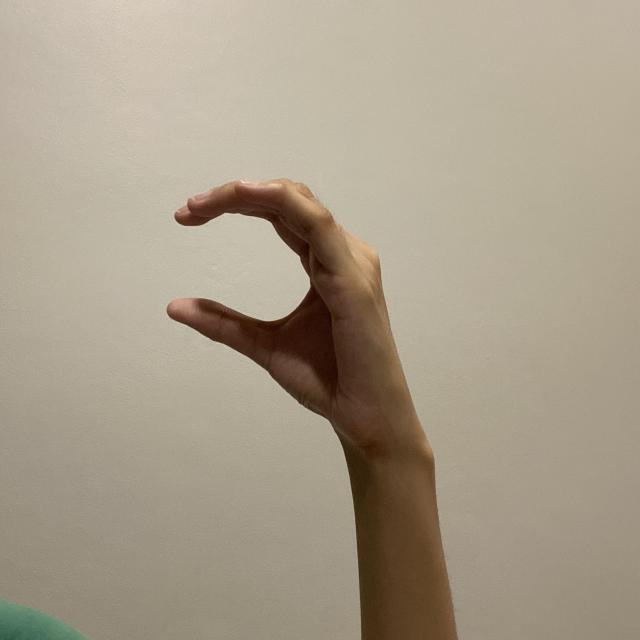C: (166, 175, 404, 446)
